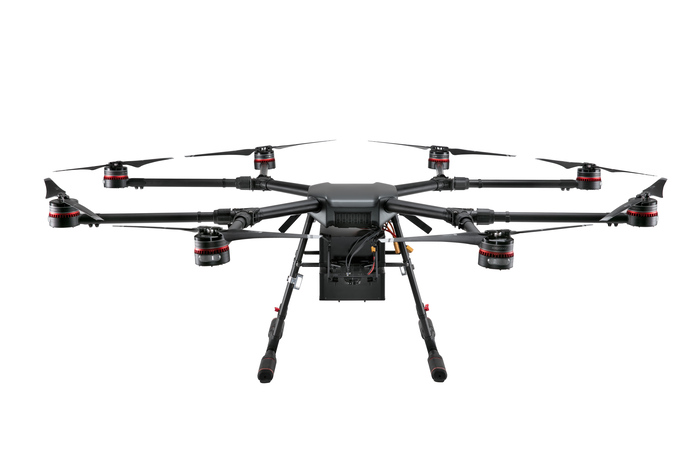drone: (37, 132, 673, 400)
